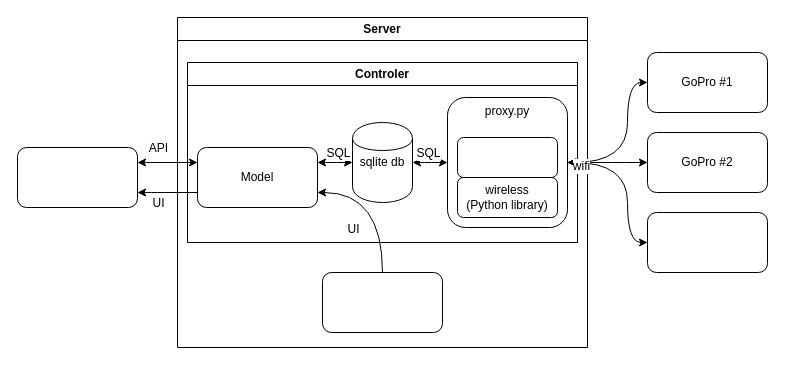
This 785x365 diagram has some shape labels left out. Here are the shapes that lost their labels. From the top down, the centre of each, then its label:
the point at 77,177: Client Browser
the point at 507,157: goprohero (Python library)
the point at 707,242: GoPro #3
the point at 382,302: ControllerUI
